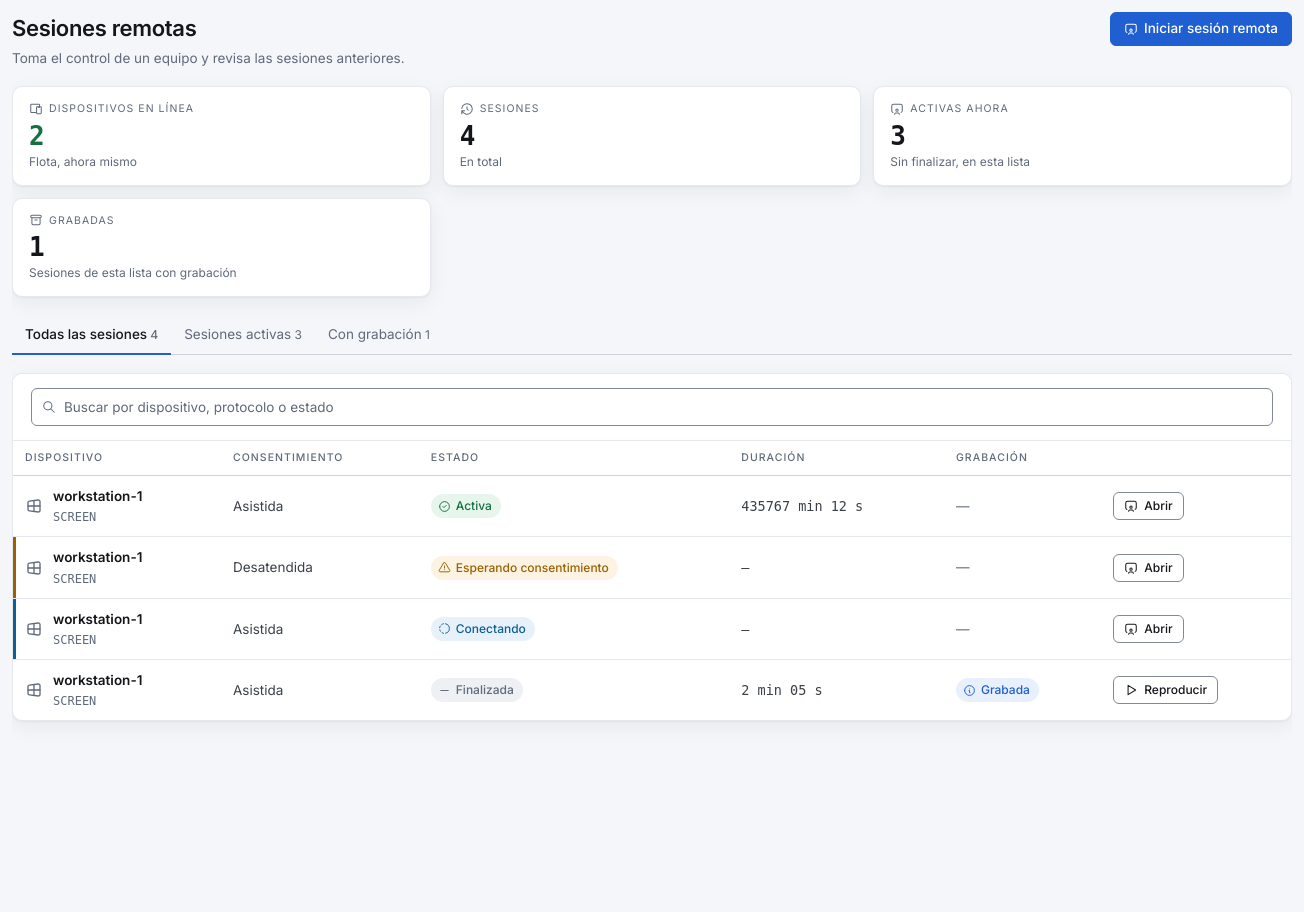
Test case: the sessions page, in Spanish › says why a filter found nothing, and that there are no sessions at all
Type "zzz" into the field named "Buscar sesiones" at x=652, y=407, box x1=31 y1=388 x2=1273 y2=426
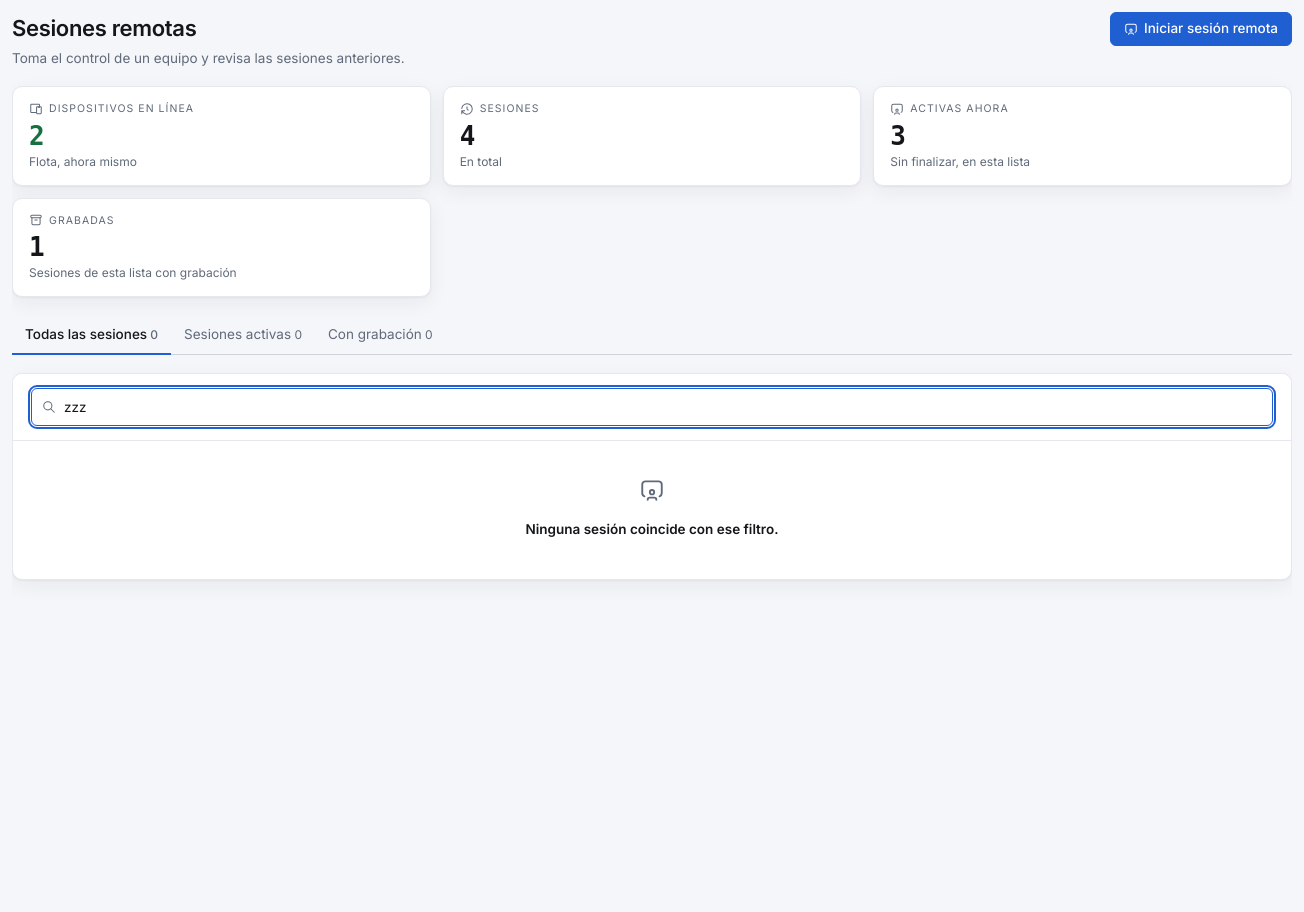
Expected: the text "Ninguna sesión coincide con ese filtro." is shown, x1=526 y1=521 x2=778 y2=537
